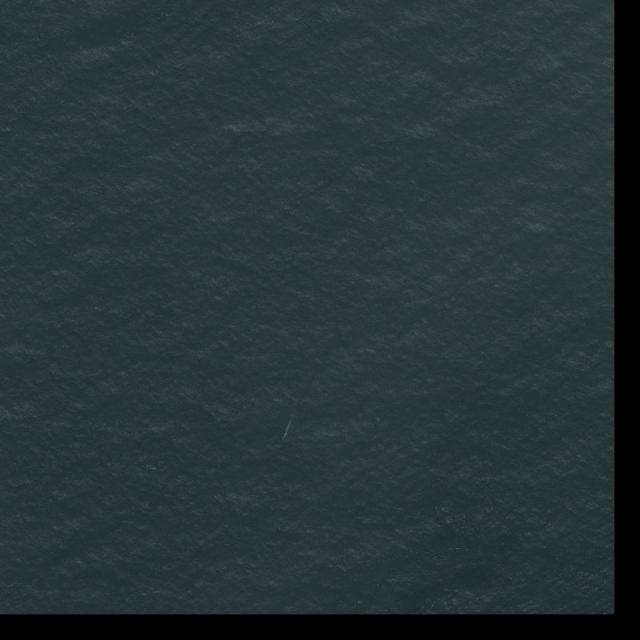ship: (282, 430, 289, 441)
